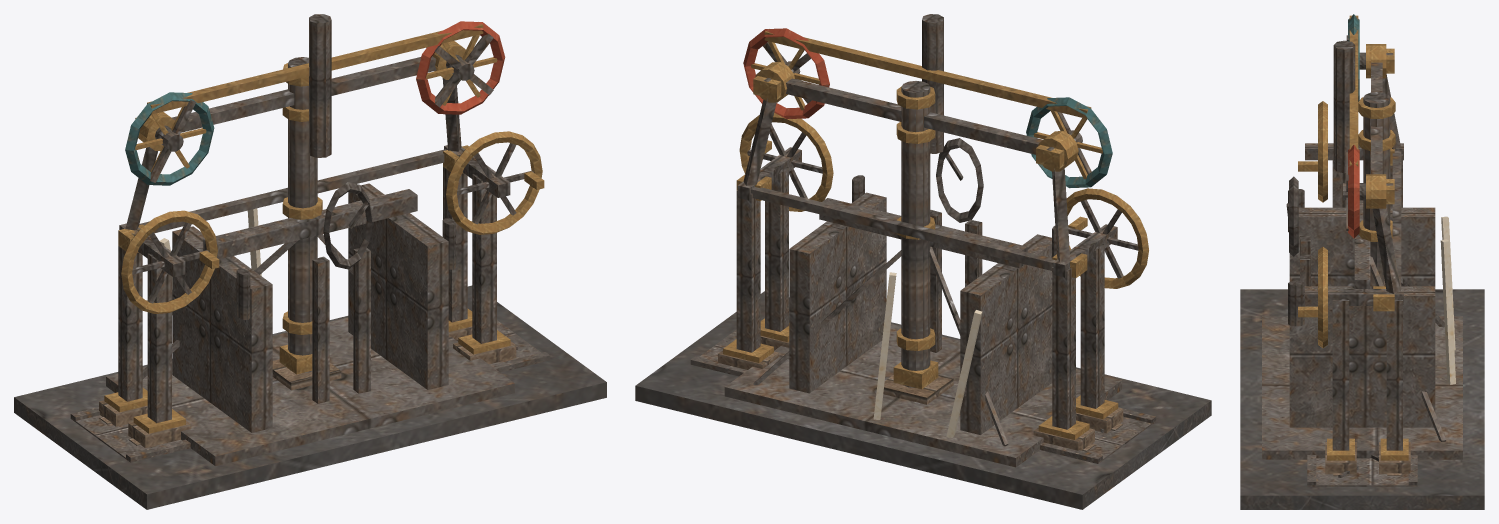
Rendered from canal-segment-b-marker.glb.
3 views of the same model, side by side, from view 1: azimuth 30°, elevation 25°; view 2: azimuth 150°, elevation 25°; view 3: azimuth 270°, elevation 25° (orthographic). The views are drawn at different scales.
Visible parts, largest first — view 1: canal-segment-b-marker; view 2: canal-segment-b-marker; view 3: canal-segment-b-marker.
Boxes of the visible parts, <box> form: canal-segment-b-marker: <box>14,14,606,509</box>; canal-segment-b-marker: <box>635,14,1211,509</box>; canal-segment-b-marker: <box>1240,14,1484,509</box>.
Bounding box in the file's own units: 6.8 × 5.56 × 3.4.
Materials: 1 (1 with a texture image).
